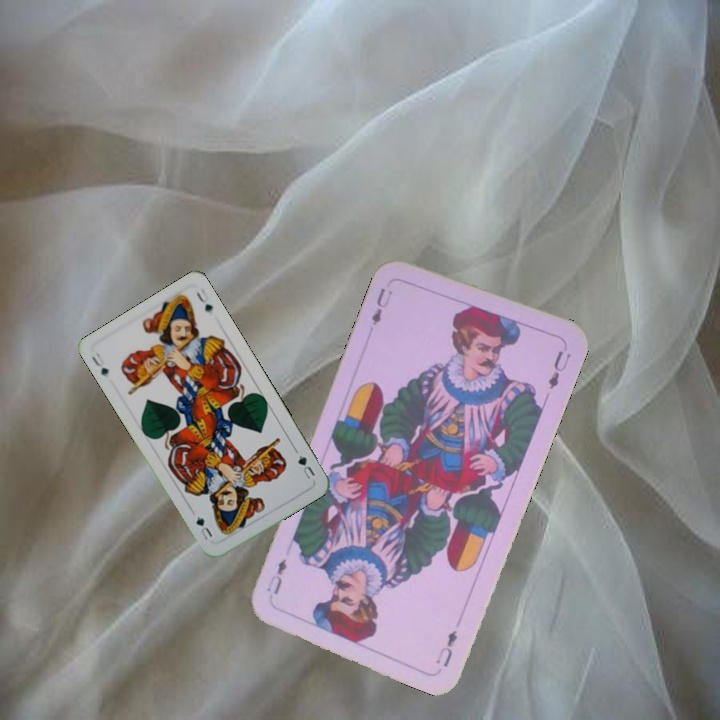EU: (431, 625, 460, 670), (367, 284, 395, 328)
GU: (294, 451, 318, 482), (87, 349, 111, 378)
